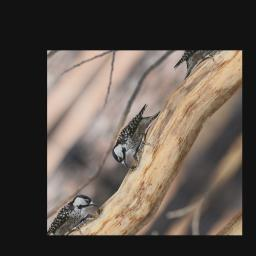Woodpecker: (105, 100, 172, 173)
